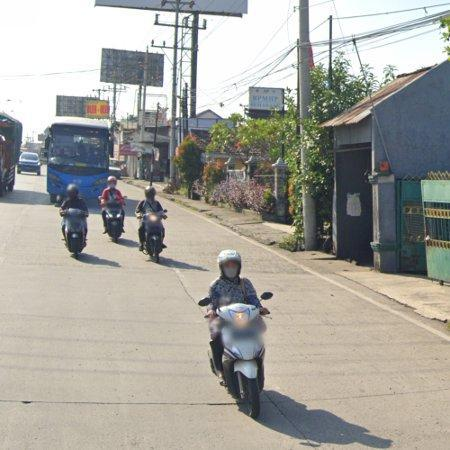motorcycles: (218, 304, 267, 418), (64, 209, 86, 258), (143, 213, 163, 262)
